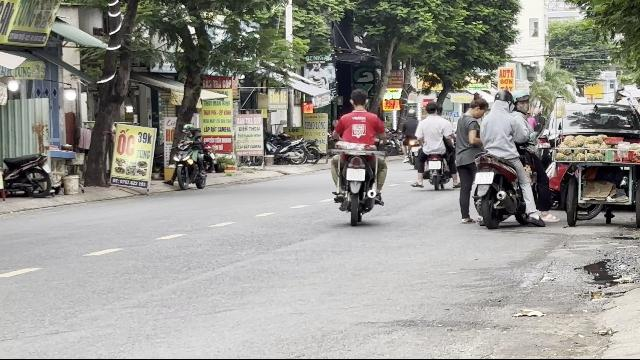helmet: (511, 88, 531, 110), (492, 88, 510, 110)
licenseplate: (474, 172, 494, 184), (346, 168, 366, 180)
motorcyclist: (460, 85, 540, 229), (326, 88, 390, 224)
nohelmet: (348, 88, 368, 110)
